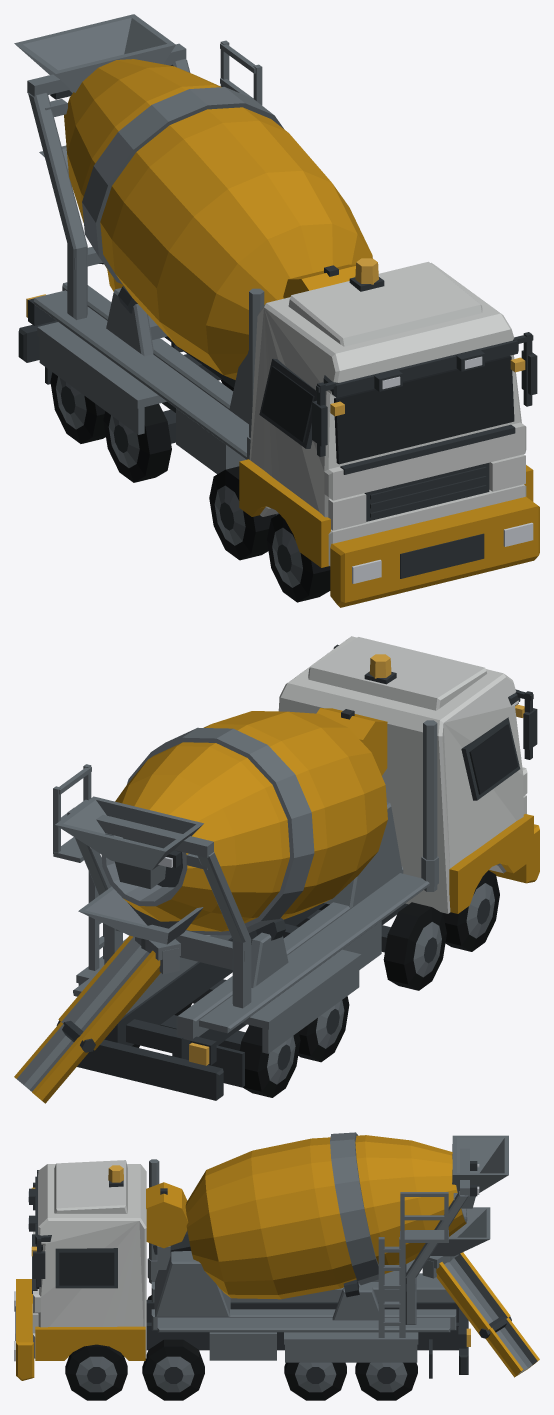
The model's file is concrete-mixer-truck-4a8d94.glb.
The picture shows the model from 3 angles, top to bottom: view 1: azimuth 30°, elevation 25°; view 2: azimuth 150°, elevation 25°; view 3: azimuth 270°, elevation 25°; orthographic projection. The views are drawn at different scales.
Parts seen in each view (by area): view 1: body, drum-band-0, wheel-mesh-r (×4), drum-band-1, drum-band-2, drum-band-3; view 2: body, drum-band-0, wheel-mesh-r (×4), drum-band-2, chute-trough, drum-band-3, drum-band-1; view 3: body, drum-band-0, wheel-mesh-l (×4), drum-band-2, chute-trough, drum-band-1, drum-band-3.
Part boxes in pixels (box(x1,y1,x2,y2)): body: box(14, 14, 539, 607); drum-band-0: box(100, 107, 372, 379); wheel-mesh-r (×4): box(50, 372, 330, 602); drum-band-1: box(82, 87, 284, 284); drum-band-2: box(67, 66, 221, 222); drum-band-3: box(64, 59, 172, 151); body: box(53, 636, 539, 1100); drum-band-0: box(203, 711, 387, 919); wheel-mesh-r (×4): box(240, 870, 499, 1097); drum-band-2: box(115, 742, 289, 931); chute-trough: box(14, 935, 180, 1103); drum-band-3: box(101, 775, 236, 921); drum-band-1: box(127, 727, 314, 935); body: box(14, 1135, 508, 1380); drum-band-0: box(185, 1137, 356, 1299); wheel-mesh-l (×4): box(65, 1339, 417, 1400); drum-band-2: box(355, 1135, 425, 1273); chute-trough: box(422, 1252, 539, 1377); drum-band-1: box(330, 1132, 384, 1285); drum-band-3: box(410, 1140, 467, 1236).
Size of the model in its own units: 2.73 by 4.17 by 8.6.
